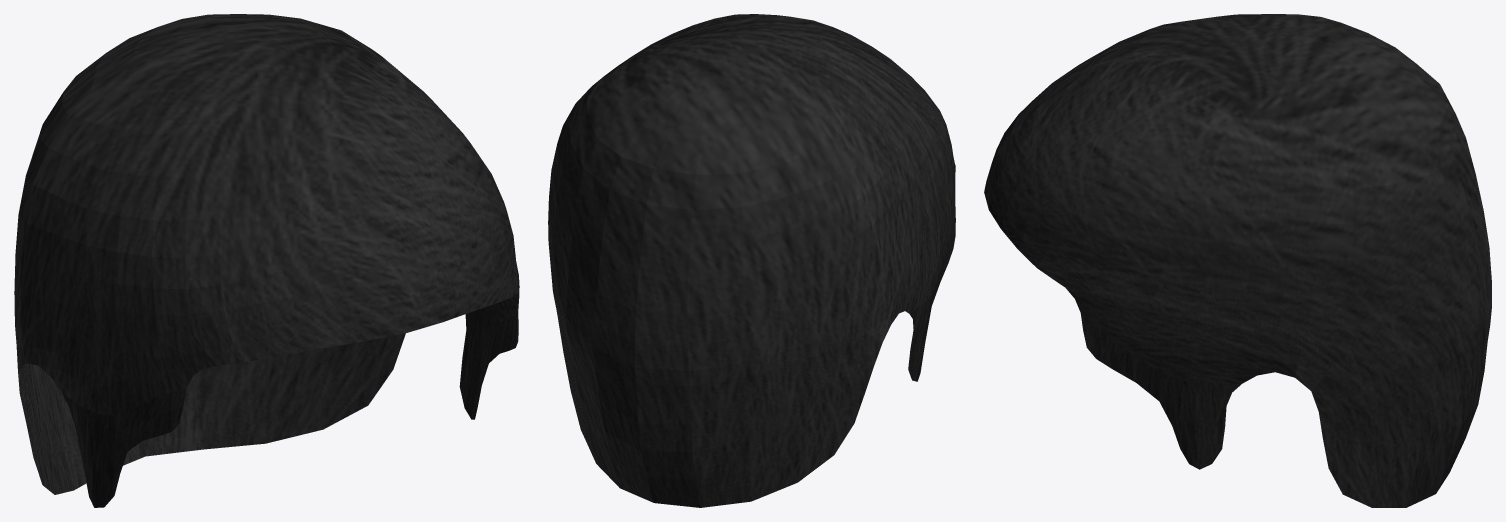
Rendered from Kami01.fbx.
3 renders of one model, left to right at view 1: azimuth 30°, elevation 25°; view 2: azimuth 150°, elevation 25°; view 3: azimuth 270°, elevation 25°, orthographic. The views are drawn at different scales.
Parts seen in each view (by area): view 1: Kami01; view 2: Kami01; view 3: Kami01.
Part boxes in pixels (left/top/right/bottom): Kami01: left=14, top=14, right=519, bottom=507; Kami01: left=548, top=14, right=955, bottom=507; Kami01: left=984, top=14, right=1491, bottom=507.
Bounding box in the file's own units: 15.63 × 17.64 × 18.54.
